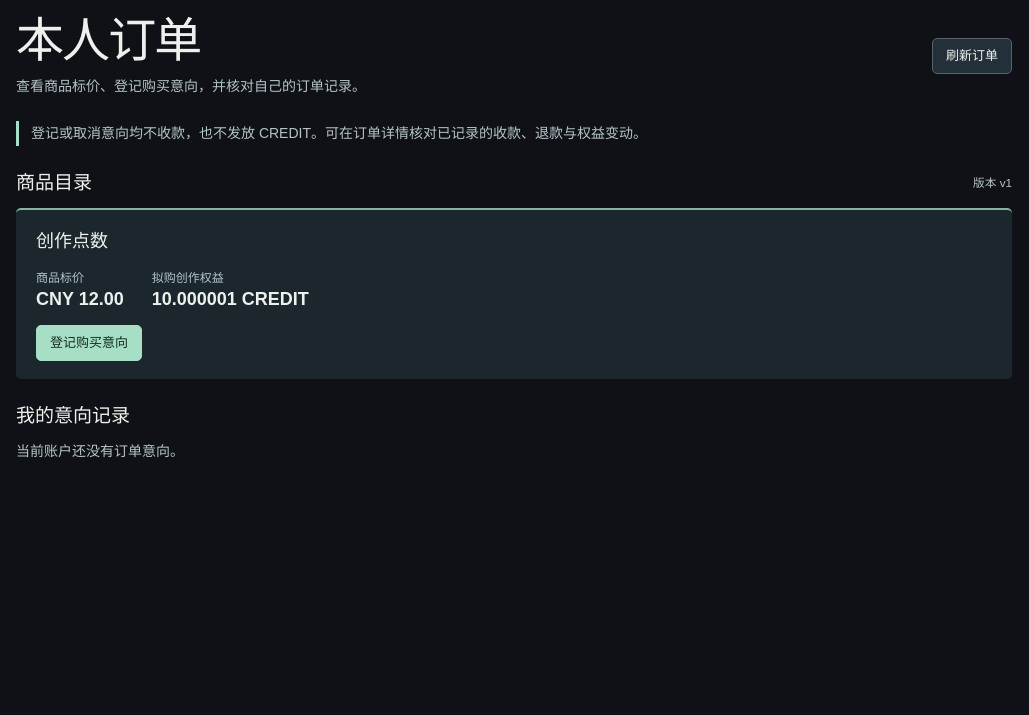
Test case: queries a lost original receipt without posting, and shows current status independently
Later steps or results of the test are not shown.
Click the button "登记购买意向" at (89, 343), box [36,325,142,361]
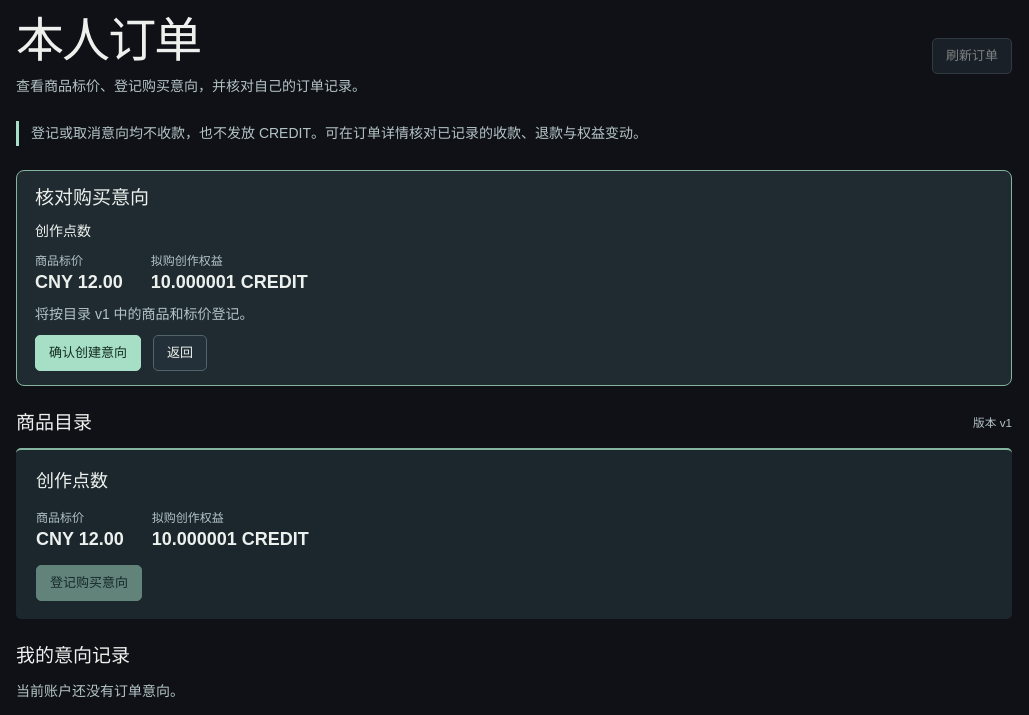
Result: the button "确认创建意向" is shown
Result: the button "确认创建意向" is enabled
Click the button "确认创建意向" at (88, 353), box [35,335,141,371]
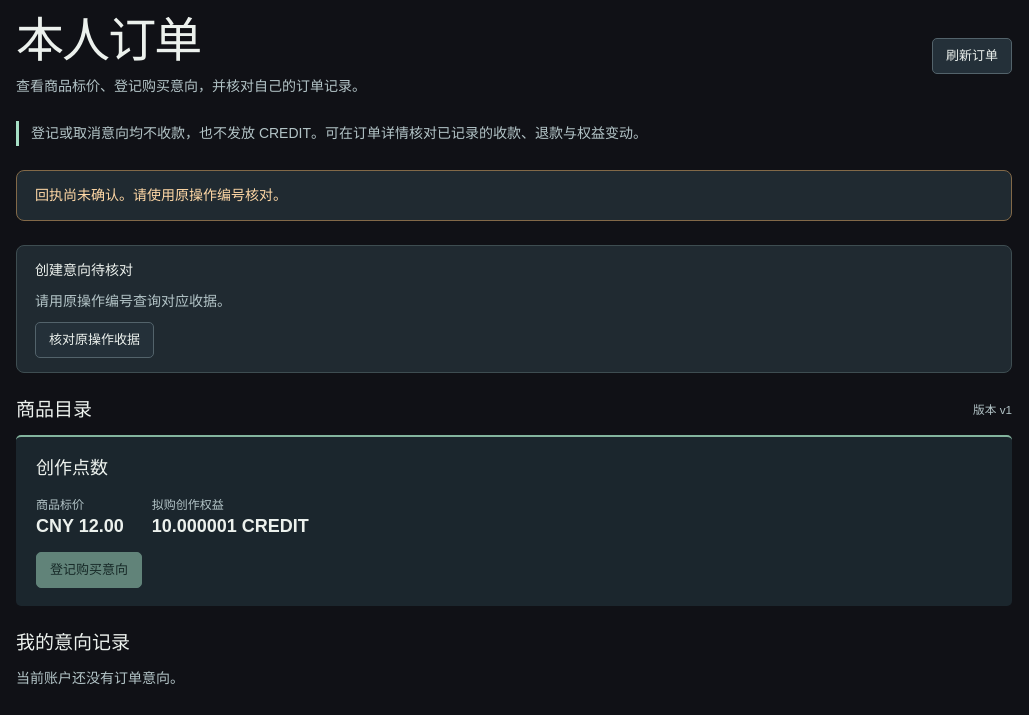
Result: the button "核对原操作收据" is shown
Result: the button "核对原操作收据" is enabled
Click the button "核对原操作收据" at (94, 340), box [35,322,154,358]
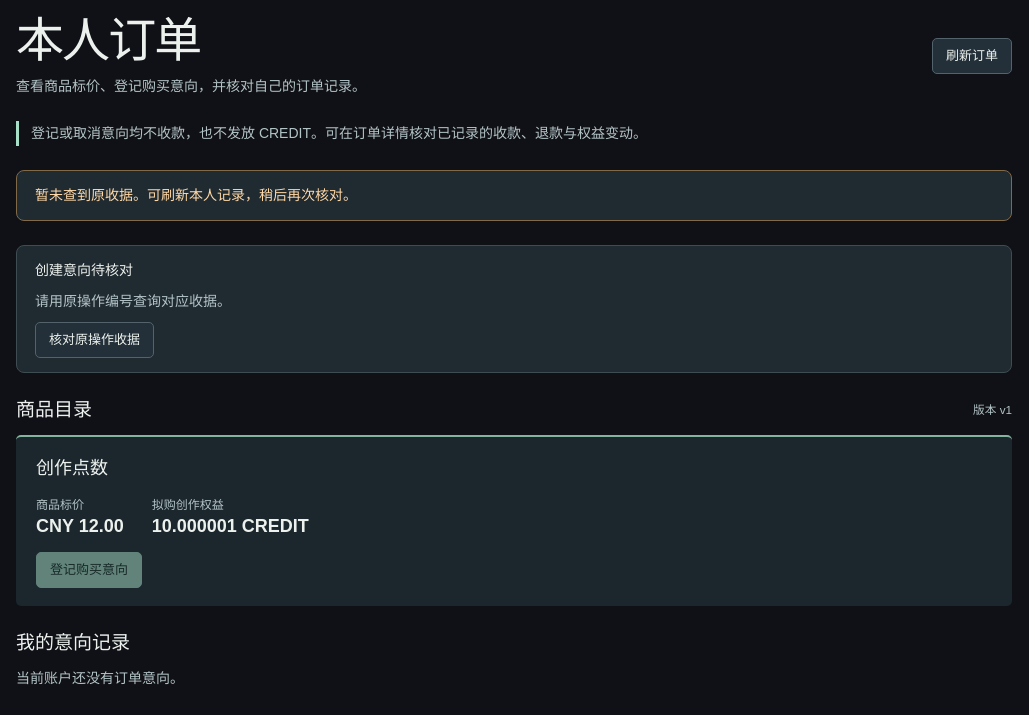
Result: the button "登记购买意向" is disabled at [36,552,142,588]
Result: the button "核对原操作收据" is enabled at [35,322,154,358]
